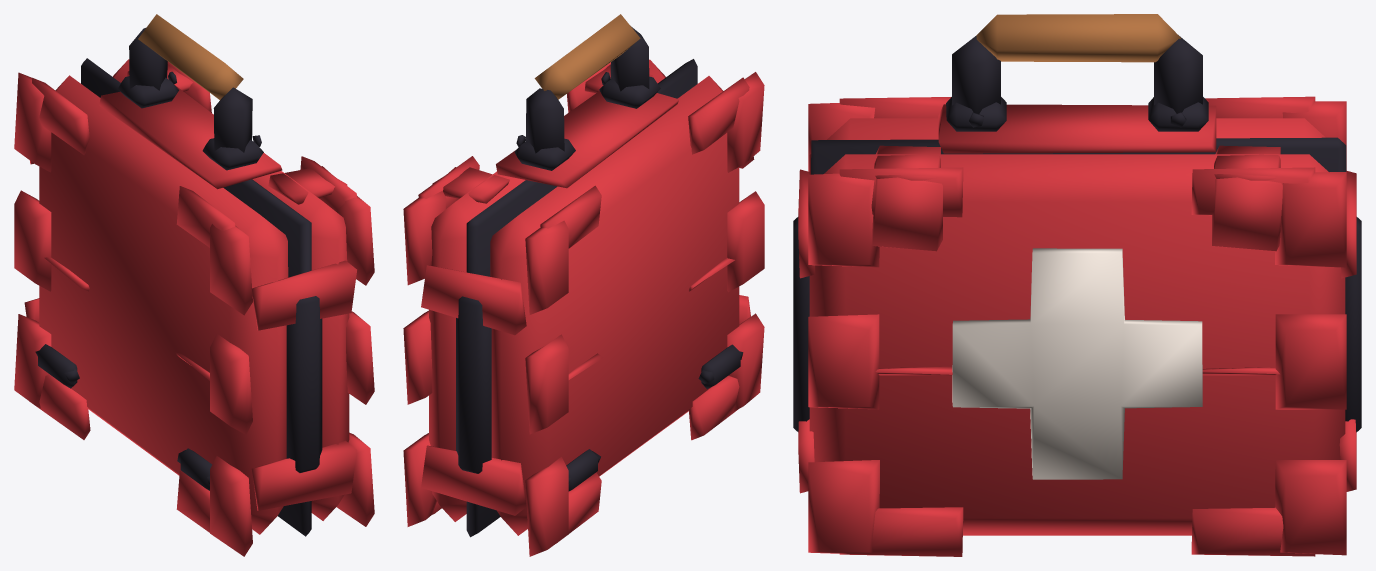
3 views of the same model, side by side, from view 1: azimuth 30°, elevation 25°; view 2: azimuth 150°, elevation 25°; view 3: azimuth 270°, elevation 25° (orthographic). The views are drawn at different scales.
Visible parts, largest first — view 1: body_pal_survivorRed, lid_pal_survivorRed, body_pal_uiDark, handle_pal_uiDark, handle_pal_woodWarm; view 2: body_pal_survivorRed, lid_pal_survivorRed, body_pal_uiDark, handle_pal_uiDark, handle_pal_woodWarm; view 3: lid_pal_survivorRed, lid_pal_picketWhite, body_pal_survivorRed, body_pal_uiDark, handle_pal_woodWarm, handle_pal_uiDark.
Boxes of the visible parts, x1,y1,x2,y2 form: body_pal_survivorRed: (14, 72, 357, 556); lid_pal_survivorRed: (113, 59, 374, 526); body_pal_uiDark: (35, 58, 322, 536); handle_pal_uiDark: (129, 28, 252, 152); handle_pal_woodWarm: (138, 14, 243, 99); body_pal_survivorRed: (421, 72, 764, 556); lid_pal_survivorRed: (403, 59, 665, 526); body_pal_uiDark: (456, 59, 743, 537); handle_pal_uiDark: (525, 26, 649, 153); handle_pal_woodWarm: (534, 14, 640, 99); lid_pal_survivorRed: (808, 145, 1346, 556); lid_pal_picketWhite: (952, 248, 1202, 479); body_pal_survivorRed: (798, 96, 1356, 493); body_pal_uiDark: (793, 97, 1361, 432); handle_pal_woodWarm: (976, 14, 1180, 62); handle_pal_uiDark: (952, 35, 1202, 113).
Bounding box in the file's own units: 0.26 × 0.727 × 0.743.
